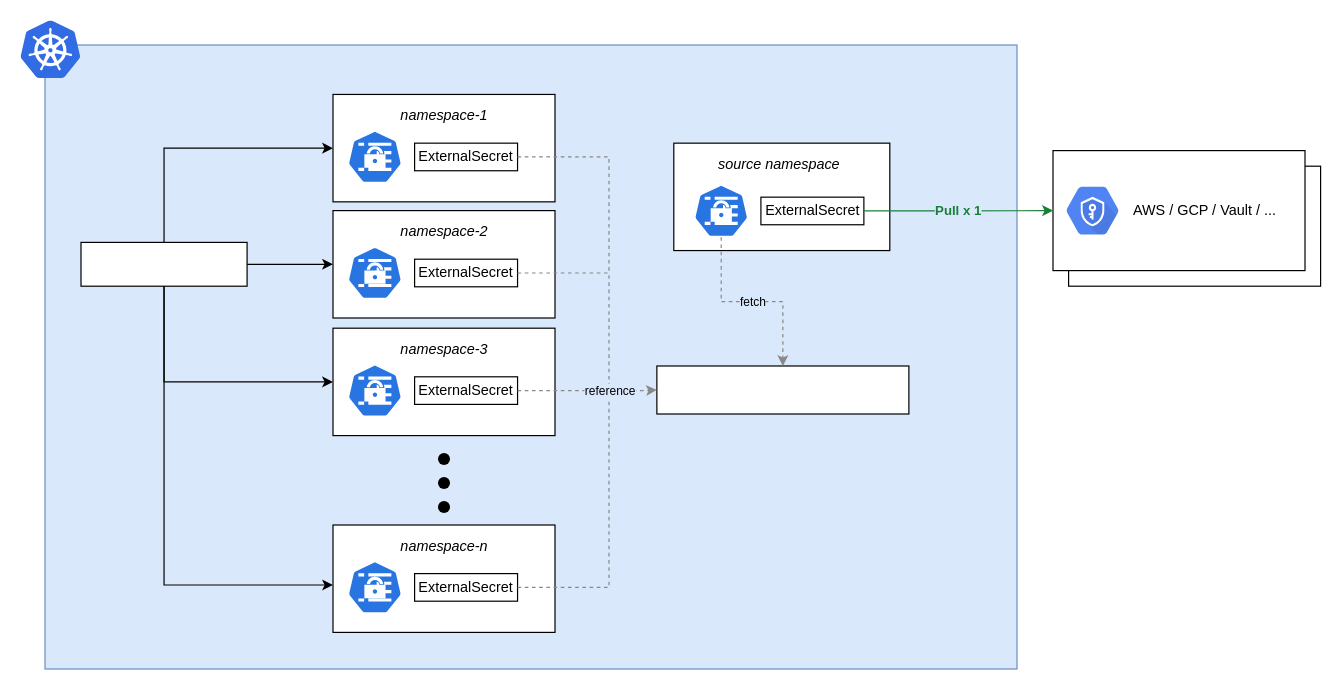
The diagram is 1342 pixels wide and 690 high, and some of its shapes have lost their labels. The shapes that lost their labels are listed below. From the top down, each one's box as (x1, y1, x2, y2) in pixels, then its label:
(80, 241, 247, 286): ClusterExternalSecret
(656, 365, 909, 414): ClusterSecretStore (Kubernetes provider)
